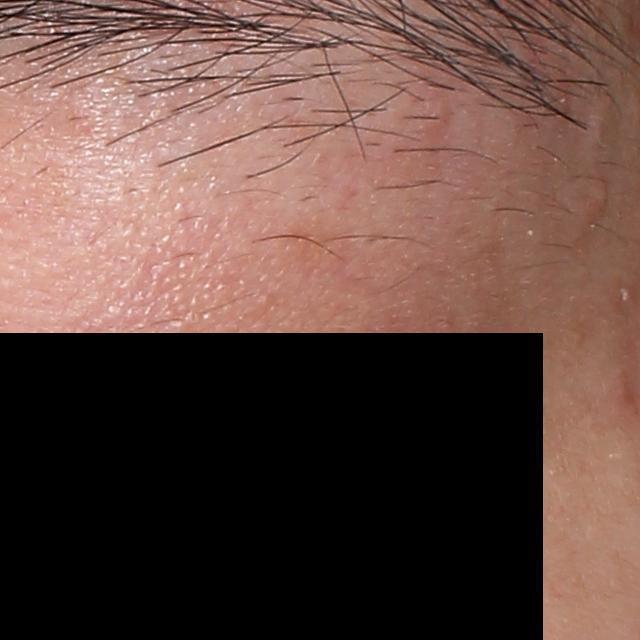papule: (585, 180, 610, 212)
